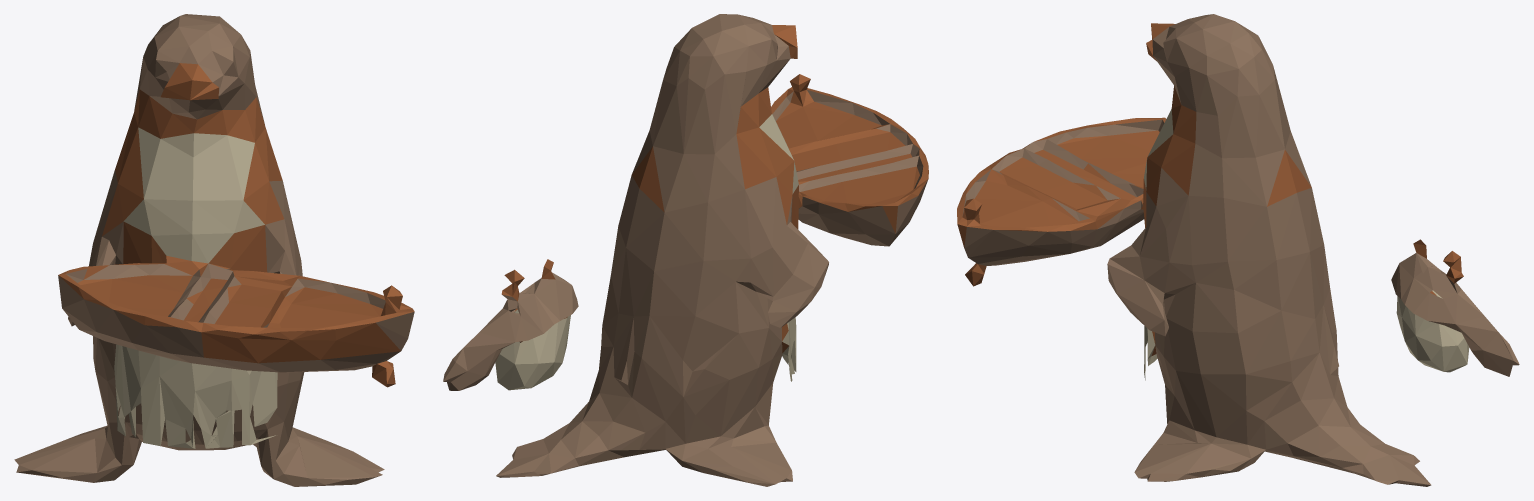
3 views of the same model, side by side, from view 1: azimuth 30°, elevation 25°; view 2: azimuth 150°, elevation 25°; view 3: azimuth 270°, elevation 25° (orthographic). The views are drawn at different scales.
Size of the model in its own units: 0.5667 by 0.793 by 0.9954.
